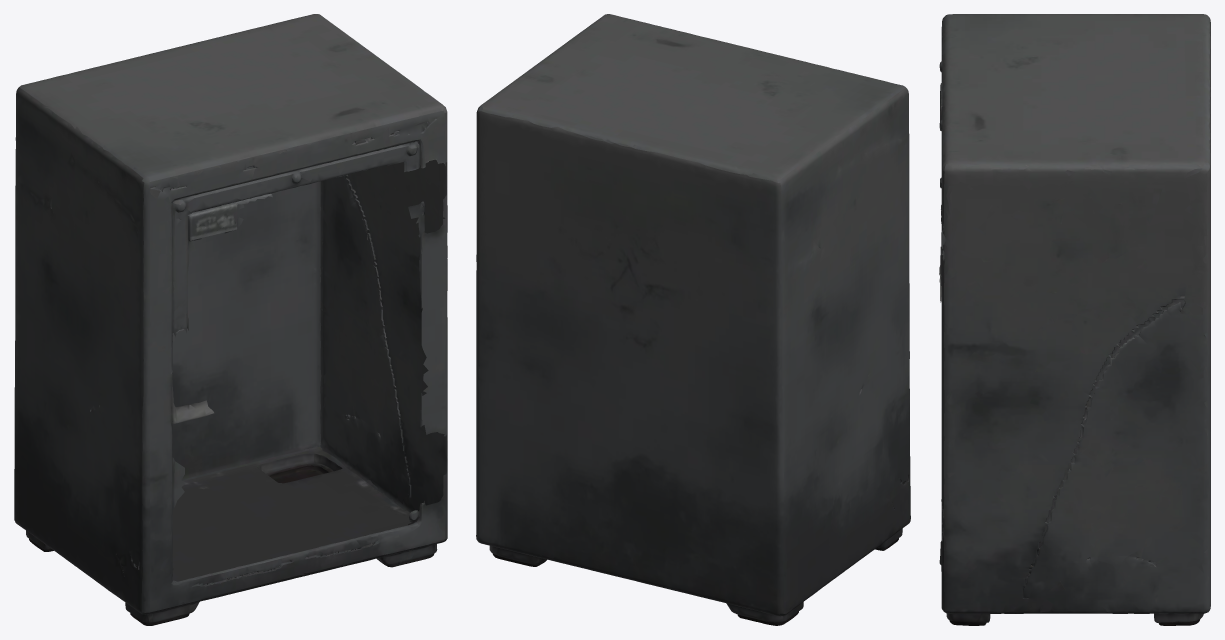
3 renders of one model, left to right at view 1: azimuth 30°, elevation 25°; view 2: azimuth 150°, elevation 25°; view 3: azimuth 270°, elevation 25°, orthographic. The views are drawn at different scales.
Parts seen in each view (by area): view 1: world; view 2: world; view 3: world.
Boxes of the visible parts, left/top/right/bottom form: world: left=14, top=14, right=447, bottom=625; world: left=476, top=14, right=910, bottom=625; world: left=939, top=14, right=1210, bottom=625.
Bounding box in the file's own units: 0.5367 × 0.75 × 0.3968.
1 material, 1 textured.
